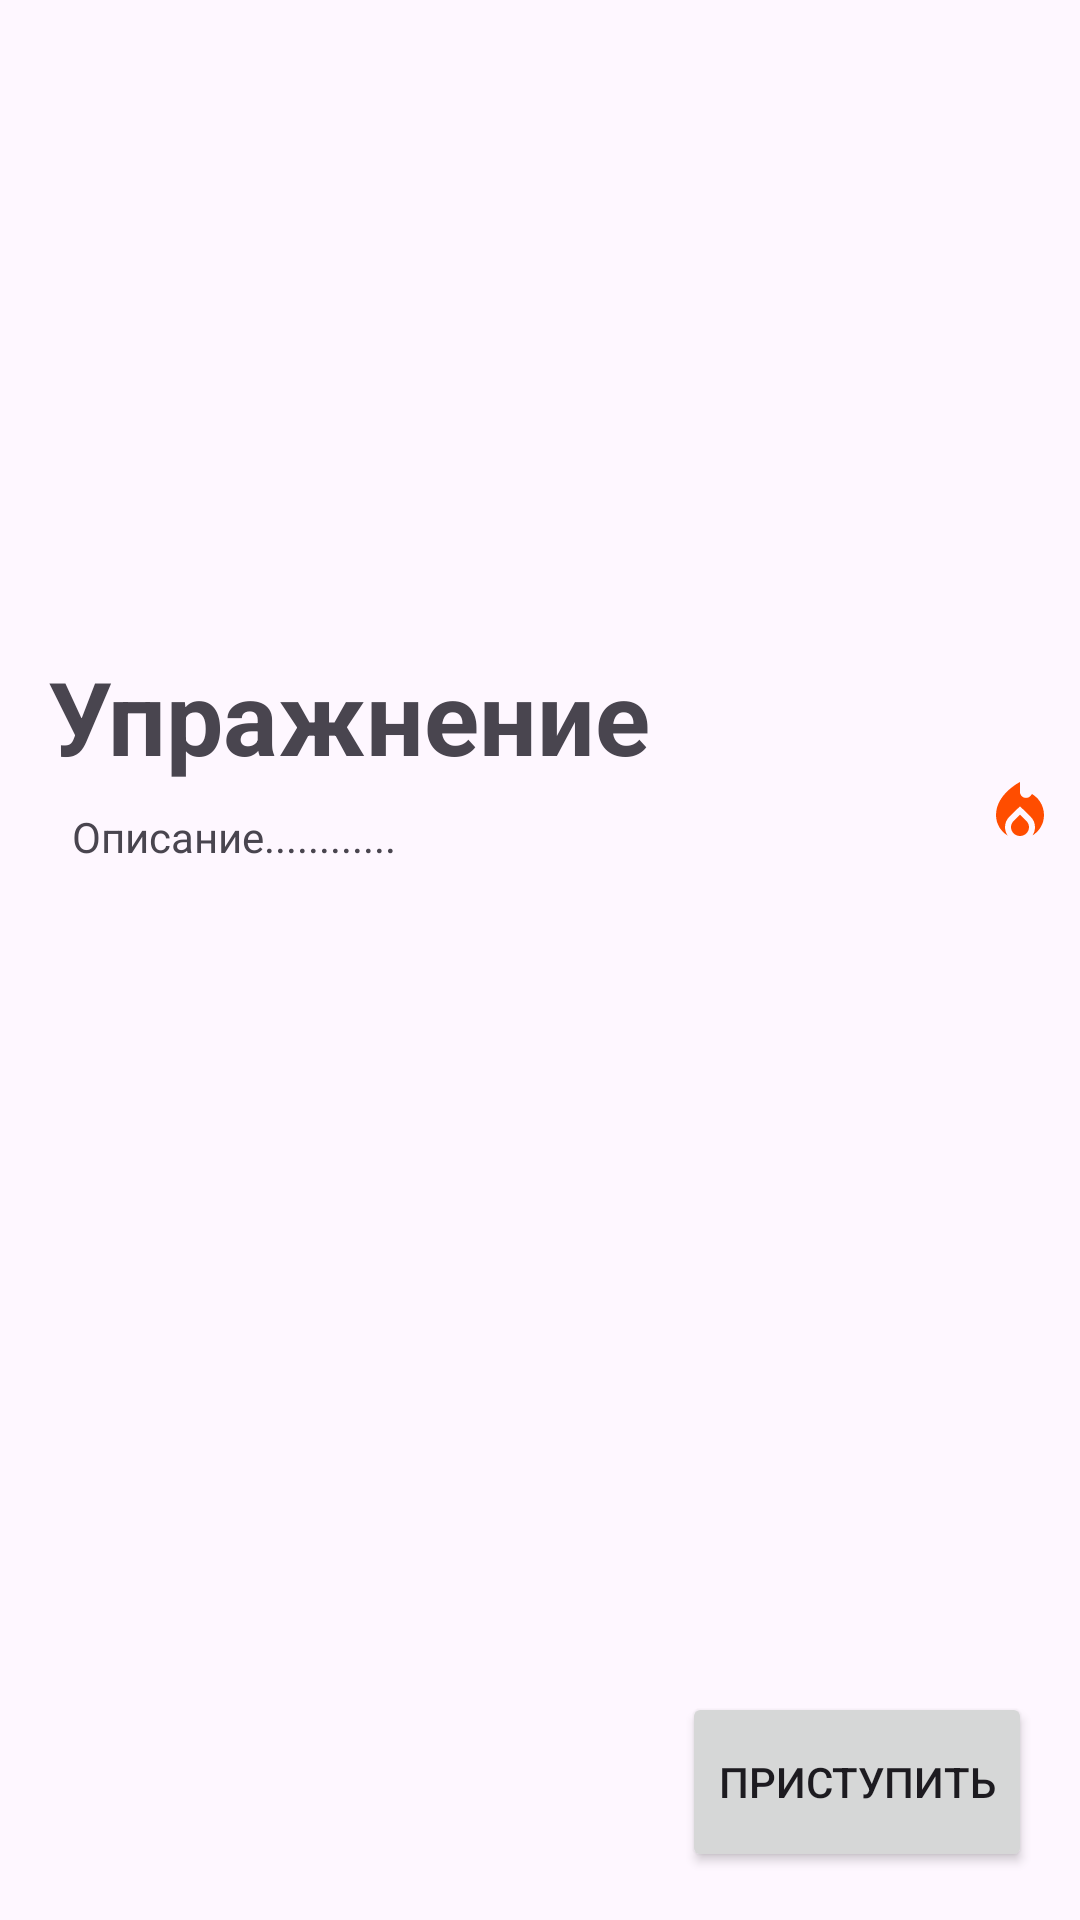

Screen size 1080×1920. Icon name, then its box in pixels as {"left": x1, "top": y1, "right": x2, "bottom": y2}:
local fire department: {"left": 996, "top": 782, "right": 1044, "bottom": 836}
